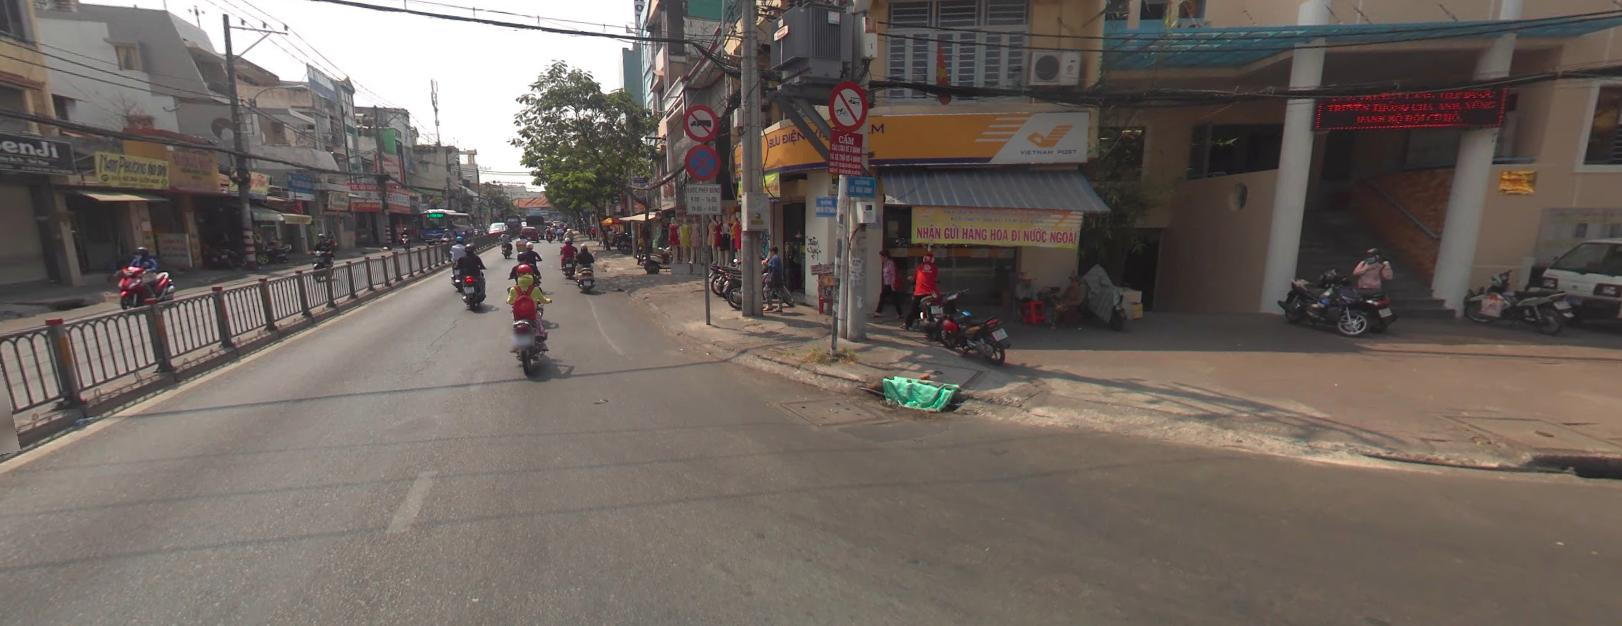Cam con lai: (828, 80, 868, 130), (683, 103, 718, 139)
Cam dung va do: (684, 143, 719, 178)
